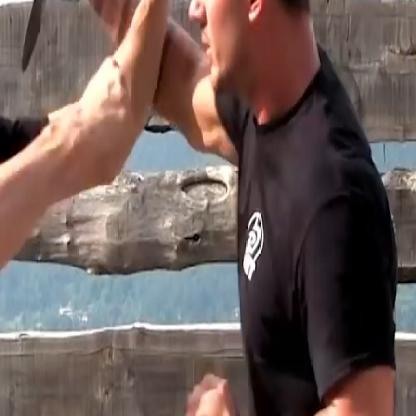knife: (11, 0, 92, 85)
